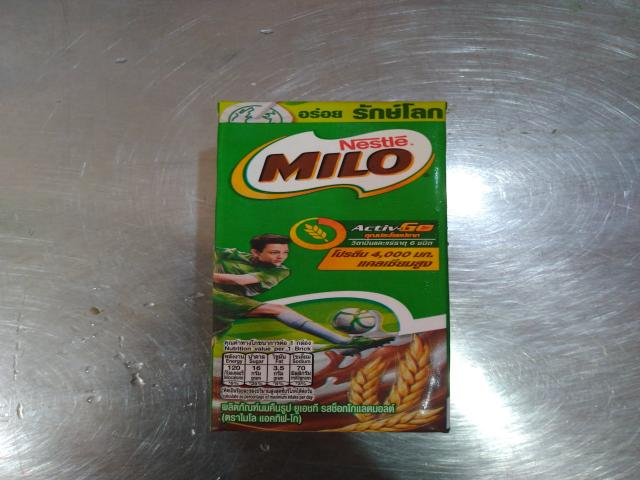drink_box: (175, 89, 512, 452)
